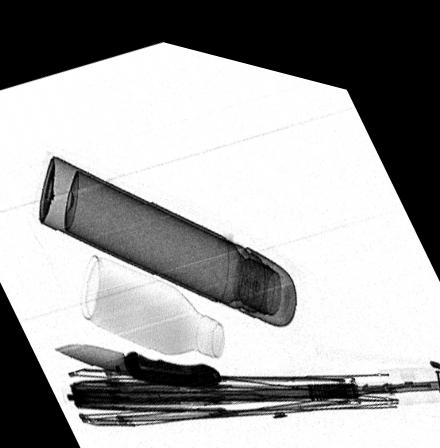Knife: (54, 338, 222, 378)
